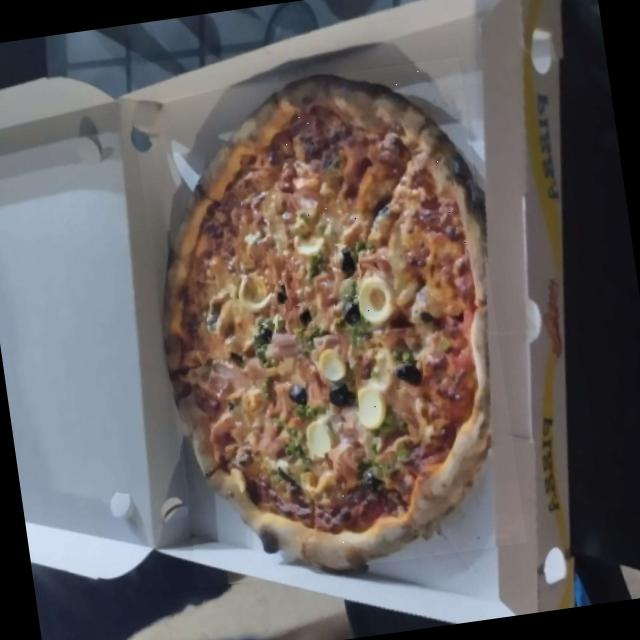Olive: (325, 378, 360, 414), (359, 466, 388, 505), (336, 242, 362, 279), (394, 358, 425, 389), (335, 296, 362, 328), (286, 380, 312, 410), (255, 322, 278, 346), (296, 303, 315, 331), (272, 282, 290, 304)
pizza: (165, 76, 491, 569)
